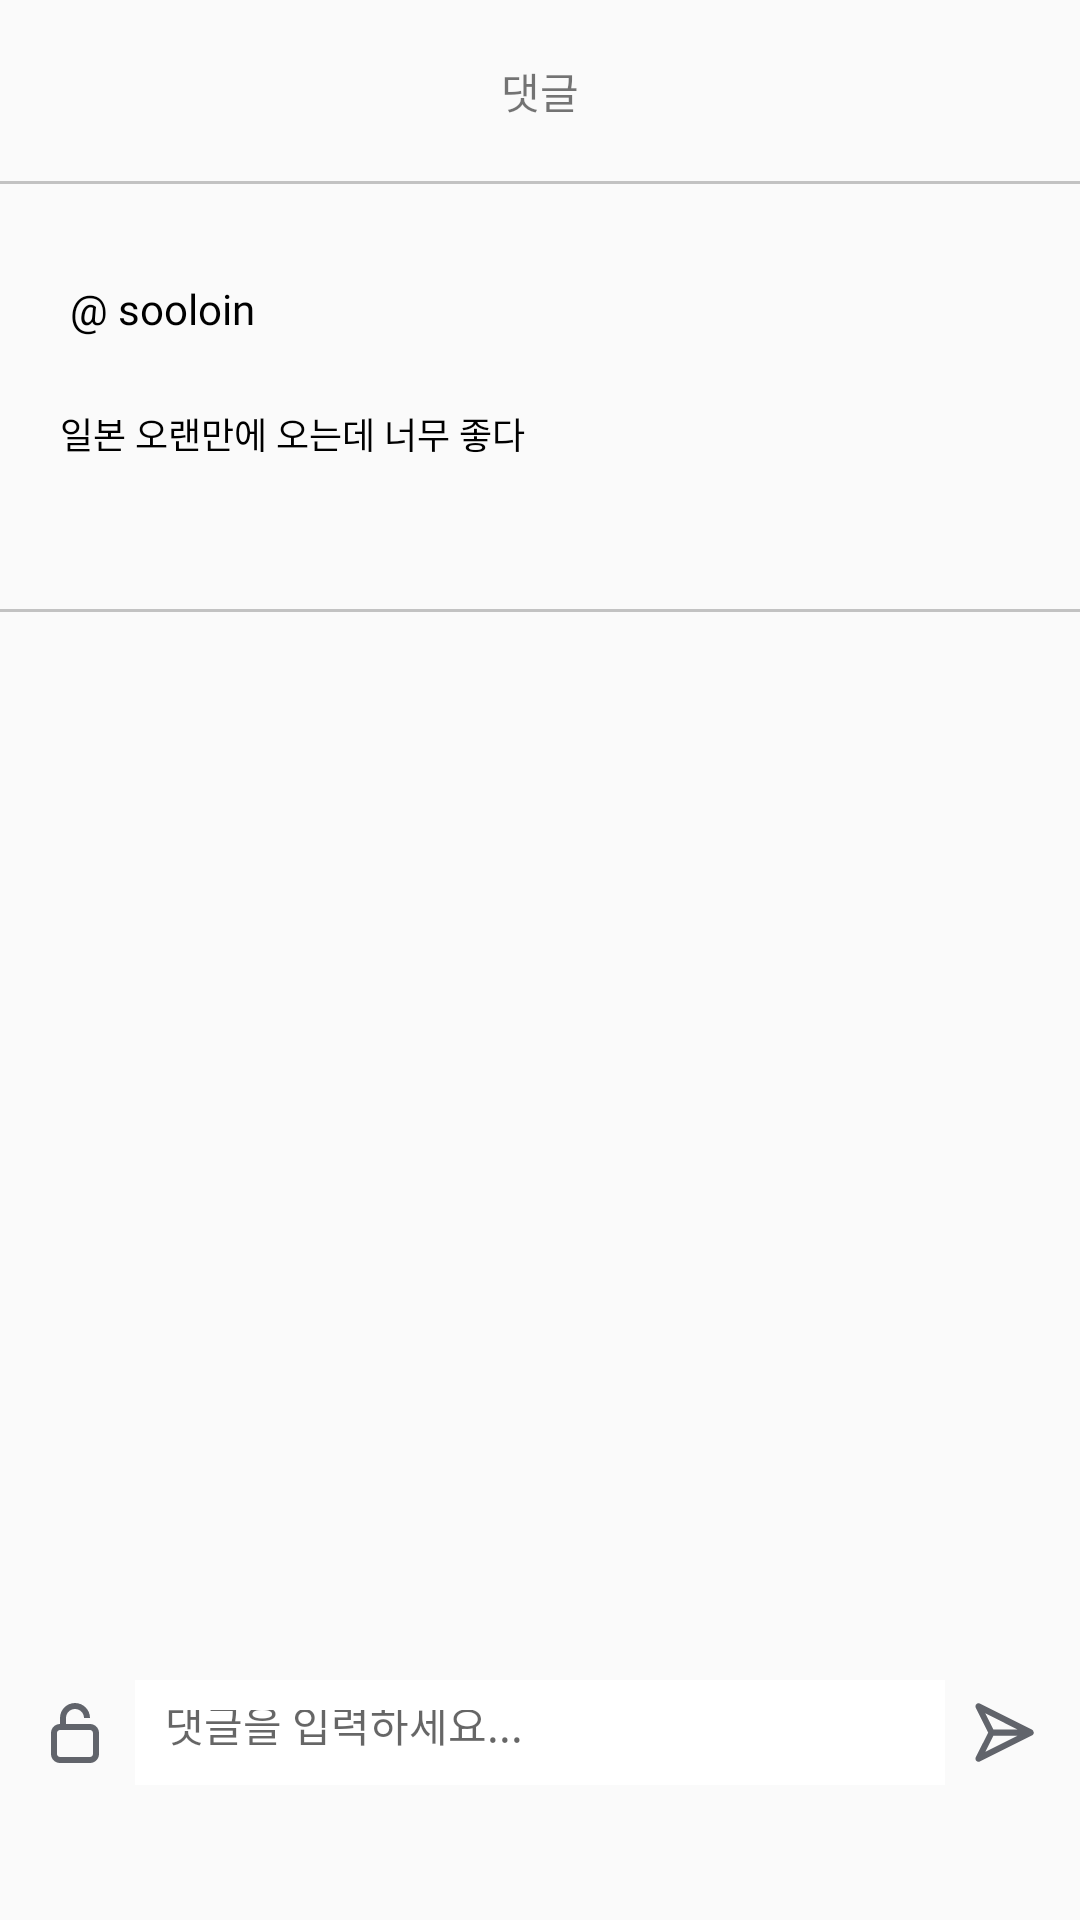

Icons on this 1080w x 1920h Android screen, each with its box as rect(x1, y1, x2, y2):
send: rect(975, 1703, 1034, 1762)
unlock: rect(51, 1703, 99, 1763)
